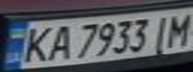3: (127, 16, 154, 53), (112, 17, 136, 55)
7: (72, 20, 100, 60)
9: (93, 19, 118, 57)
A: (42, 21, 75, 62)
I: (148, 12, 175, 50)
K: (18, 24, 57, 64)
M: (160, 10, 193, 47)
